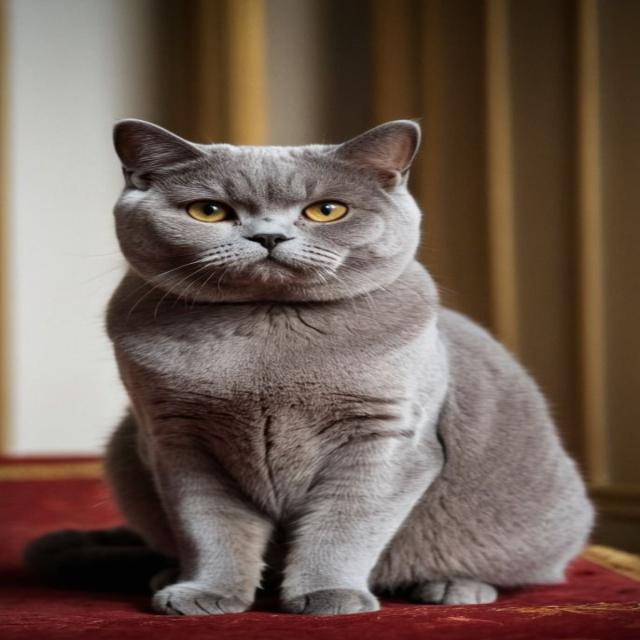british shorthair: (0, 104, 640, 607)
